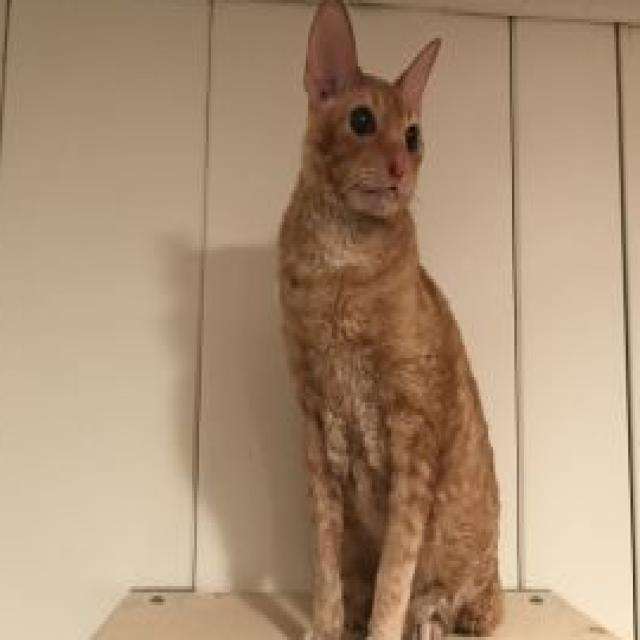Cornish Rex: (270, 0, 510, 640)
